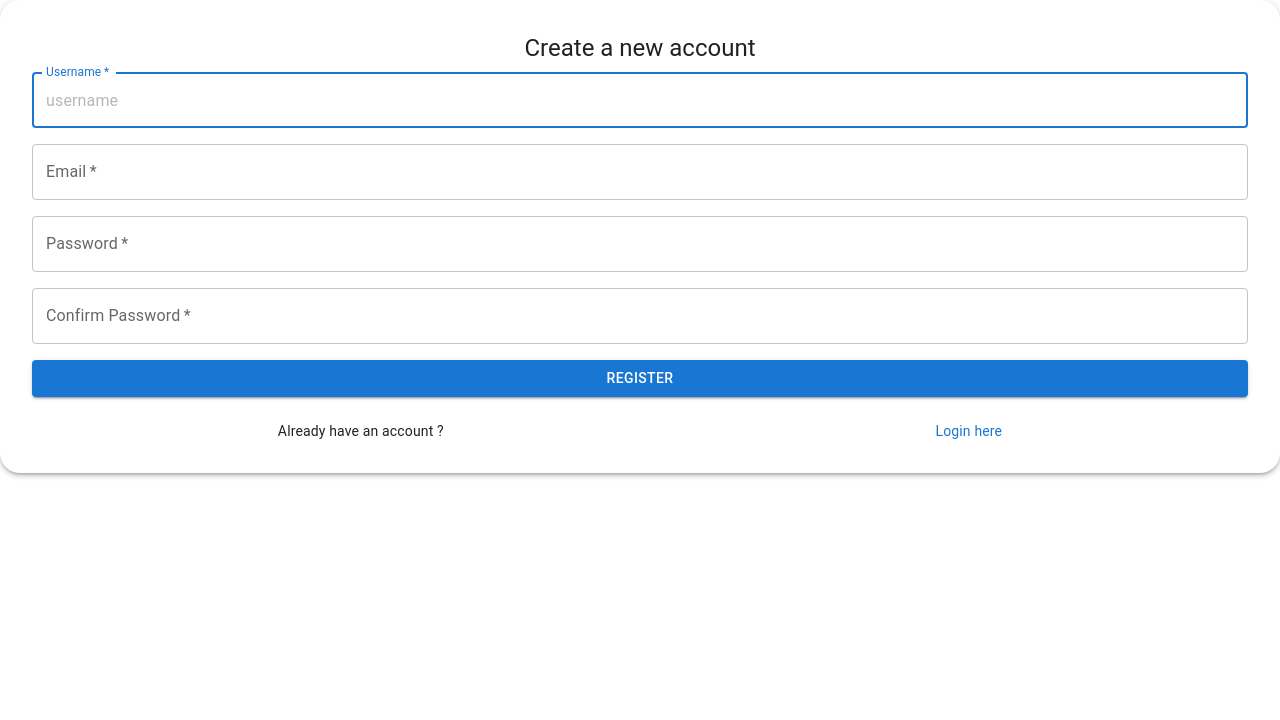
Test: LoginPage › RegisterPane › show validation error when email is invalid
This screenshot has width=1280, height=720.
Type "invalid-email" into the field labelled "Email".
click(640, 172); type("invalid-email")  # box [32,144,1248,200]
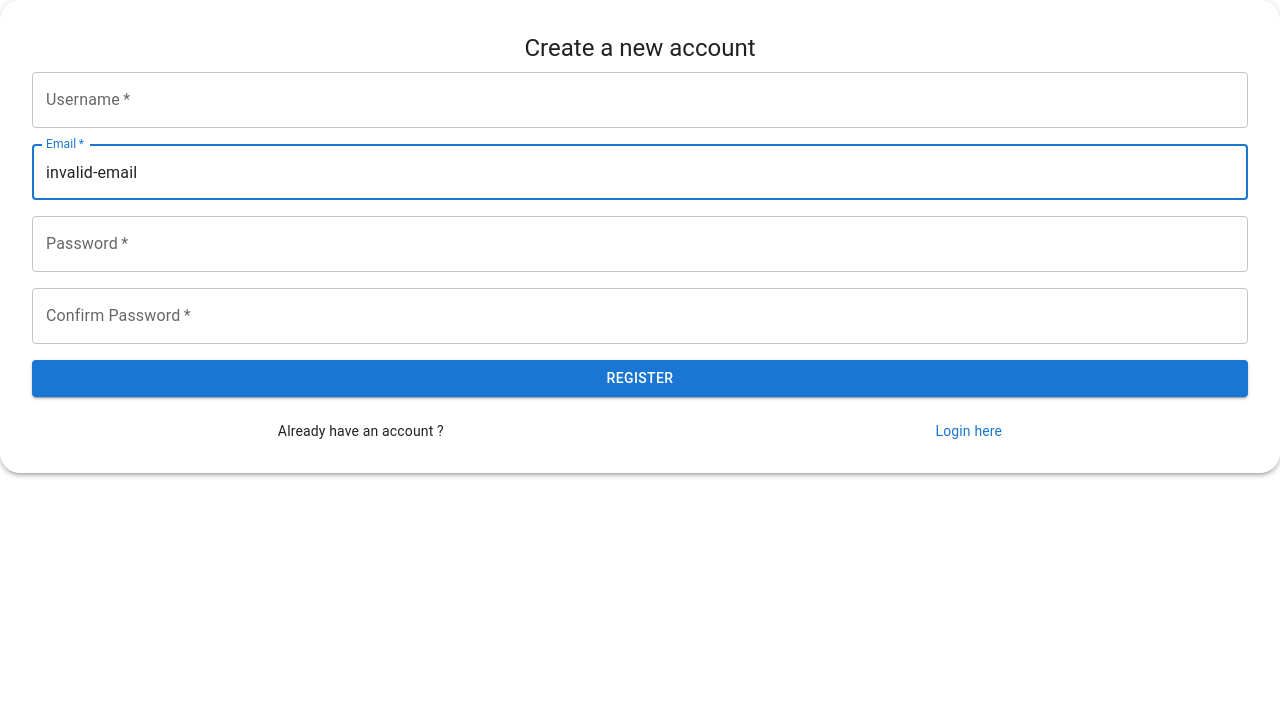
Click the button "Register".
click(640, 379)  # box [32,360,1248,397]
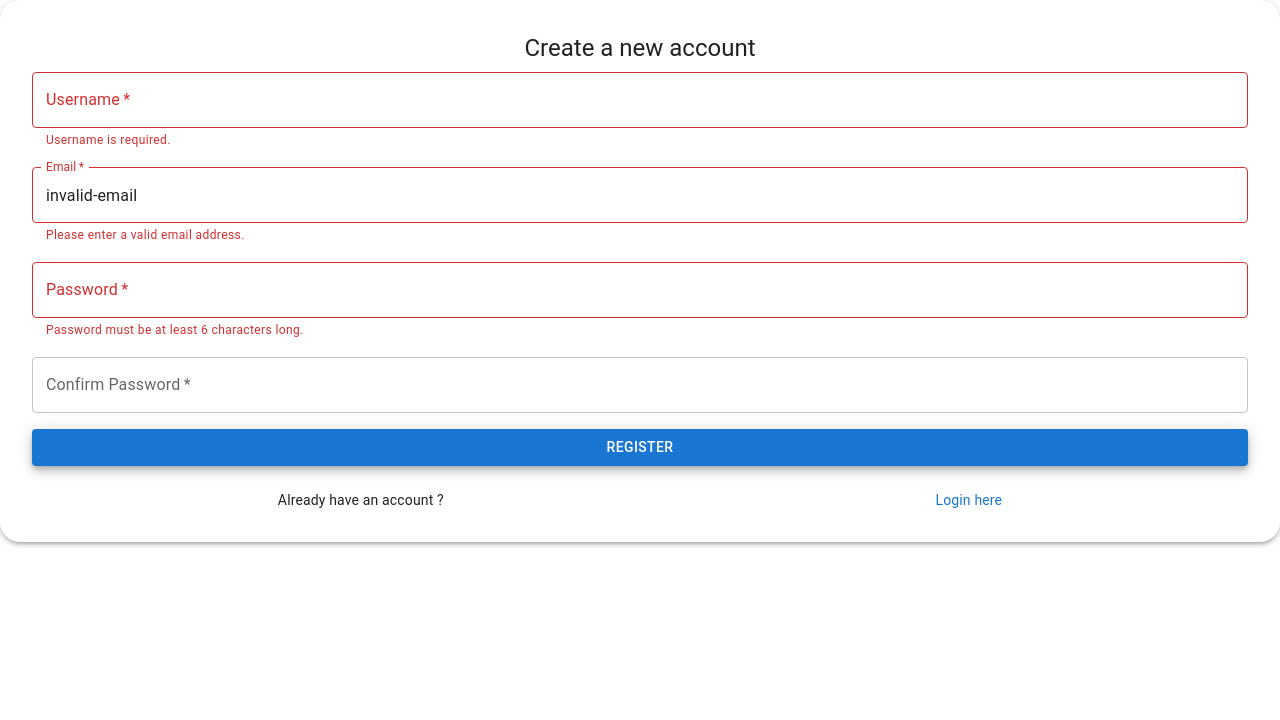
Now the text "Please enter a valid email address." is shown, box [46,228,245,242]
